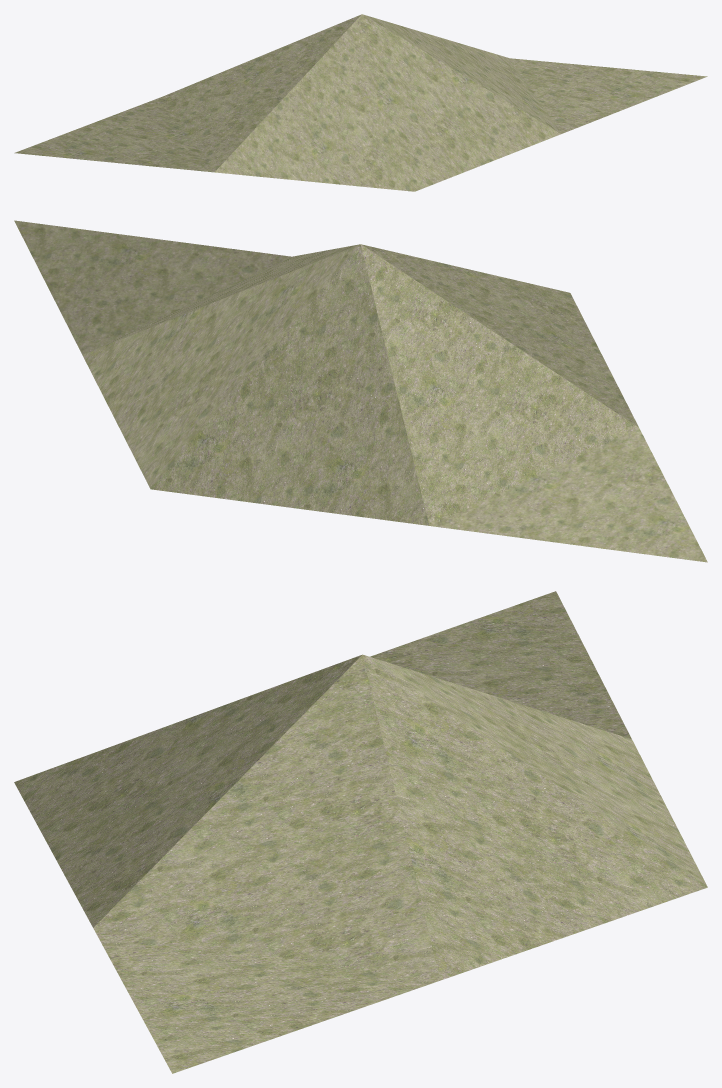
Rendered from SM_Chateaux_06_14.fbx.
3 views of the same model, one above another, from view 1: azimuth 30°, elevation 25°; view 2: azimuth 150°, elevation 25°; view 3: azimuth 270°, elevation 25° (orthographic). The views are drawn at different scales.
Parts seen in each view (by area): view 1: SM_Chateaux_06_14; view 2: SM_Chateaux_06_14; view 3: SM_Chateaux_06_14.
Boxes of the visible parts, x1,y1,x2,y2 form: SM_Chateaux_06_14: [14, 14, 707, 191]; SM_Chateaux_06_14: [14, 220, 707, 562]; SM_Chateaux_06_14: [14, 591, 707, 1073].
Size of the model in its own units: 3669 by 651 by 2127.
